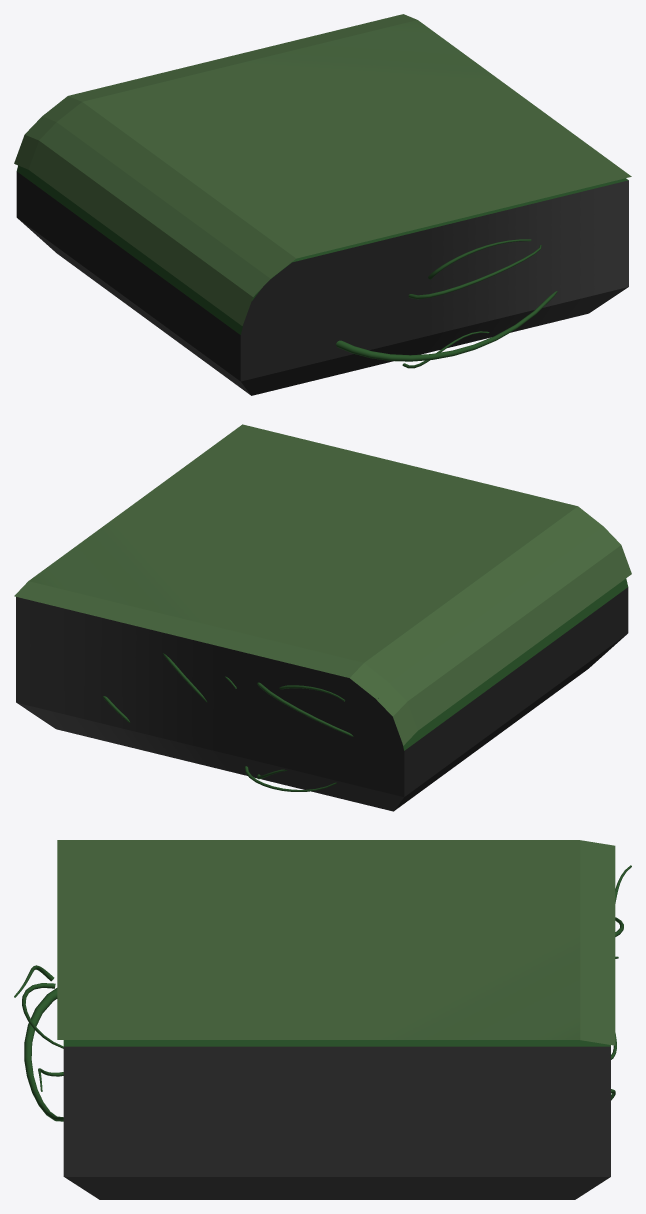
The model's file is leftface_platform.fbx.
3 views of the same model, one above another, from view 1: azimuth 30°, elevation 25°; view 2: azimuth 150°, elevation 25°; view 3: azimuth 270°, elevation 25° (orthographic). The views are drawn at different scales.
Visible parts, largest first — view 1: Cube.014; view 2: Cube.014; view 3: Cube.014.
Part boxes in pixels (box(x1,y1,x2,y2)): Cube.014: box(14, 14, 631, 395); Cube.014: box(14, 424, 631, 811); Cube.014: box(14, 840, 631, 1199).
Bounding box in the file's own units: 1055 × 371 × 1188.
